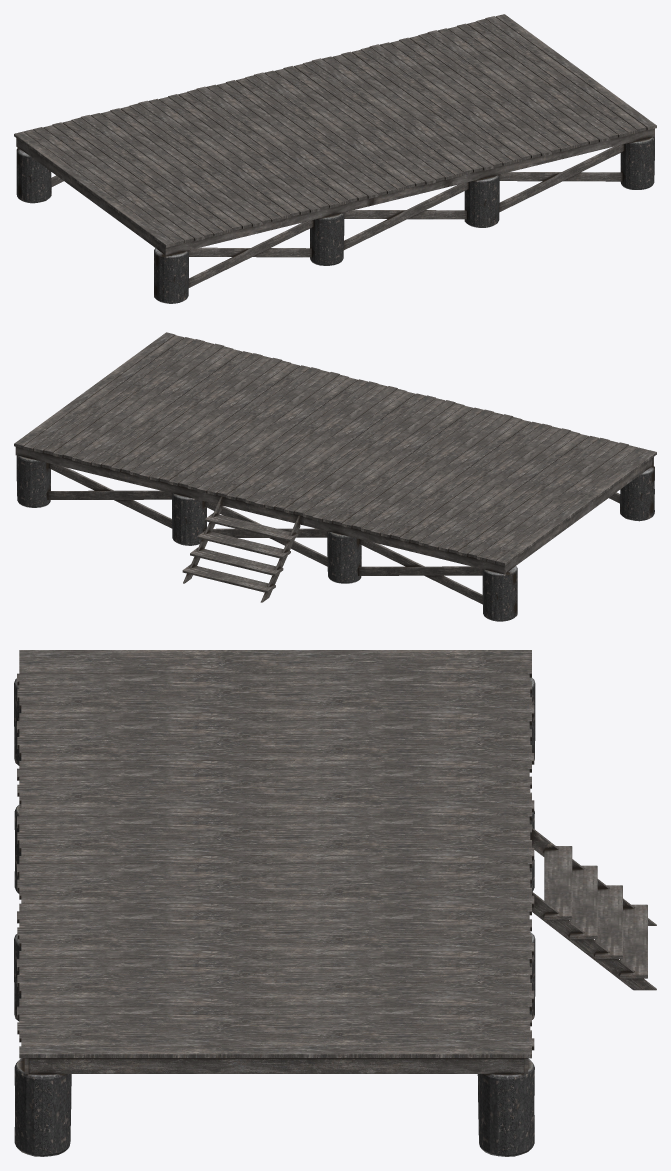
Rendered from Stage_mdl.fbx.
3 renders of one model, top to bottom at view 1: azimuth 30°, elevation 25°; view 2: azimuth 150°, elevation 25°; view 3: azimuth 270°, elevation 25°, orthographic. The views are drawn at different scales.
Parts seen in each view (by area): view 1: TO14_SM_MP_Stage_mdl.mo; view 2: TO14_SM_MP_Stage_mdl.mo; view 3: TO14_SM_MP_Stage_mdl.mo.
Boxes of the visible parts, bbox=[...] form: TO14_SM_MP_Stage_mdl.mo: bbox=[14, 14, 656, 303]; TO14_SM_MP_Stage_mdl.mo: bbox=[14, 332, 656, 621]; TO14_SM_MP_Stage_mdl.mo: bbox=[14, 650, 656, 1156].
Size of the model in its own units: 1019 by 123 by 677.
